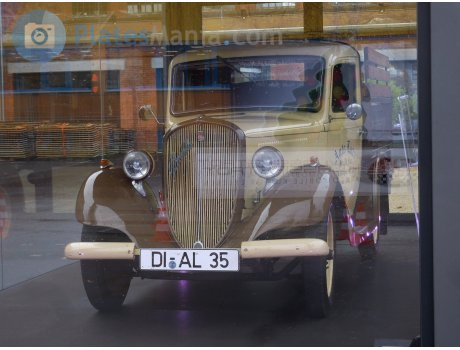License Plates: (145, 247, 238, 265)
